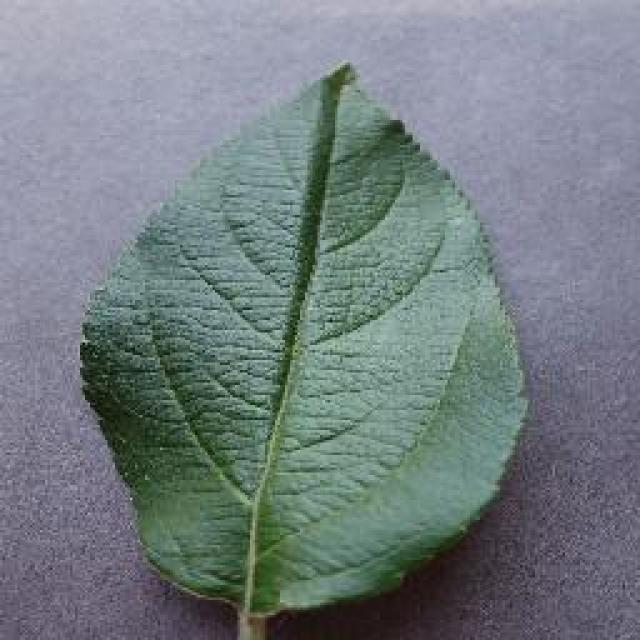apple healthy: (75, 58, 530, 630)
